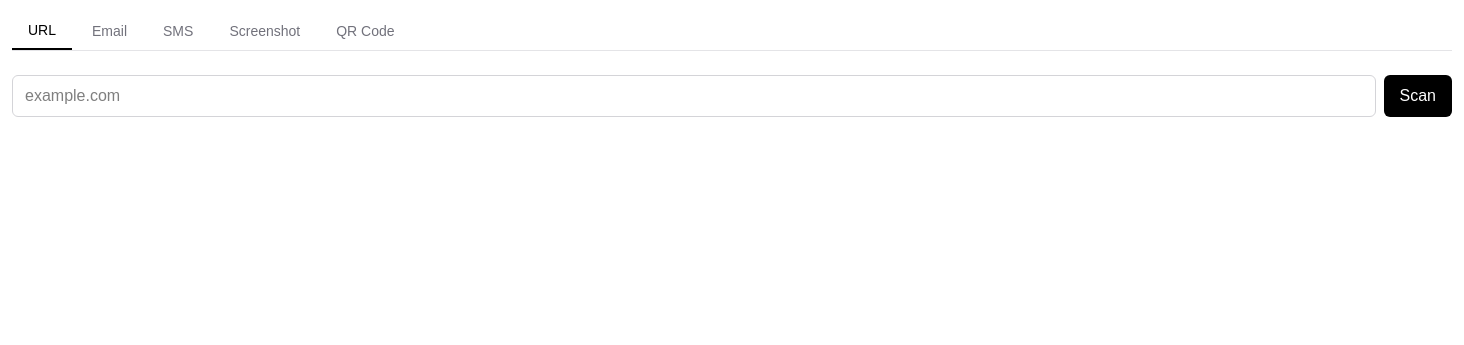
Test case: ScanTabs › switches to the Email form when the Email tab is clicked
The image size is (1464, 345).
Click the tab "Email".
click(110, 31)  # box [76,12,143,50]
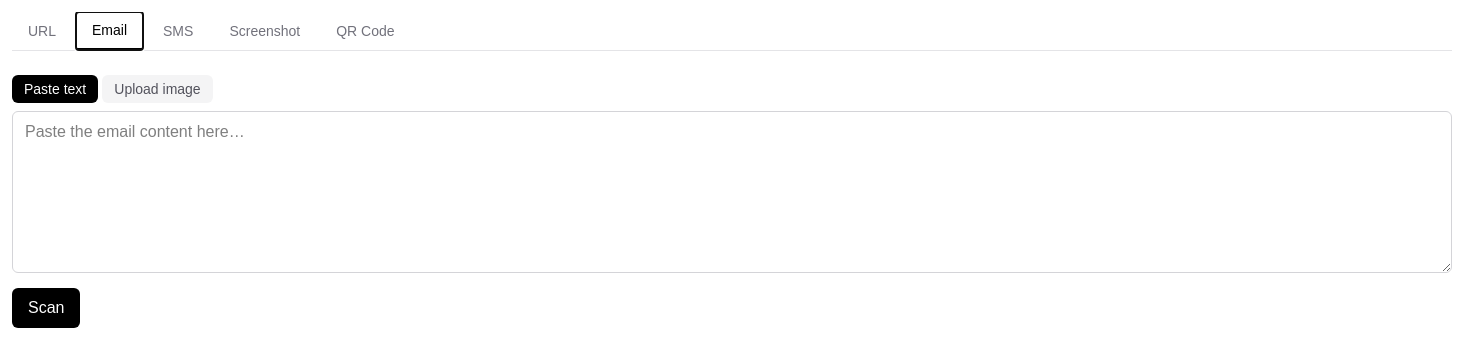
expect the field with placeholder "example.com" is not shown: met
expect the text box with placeholder "Paste the email content here…" is shown: met, box [12,111,1452,273]
